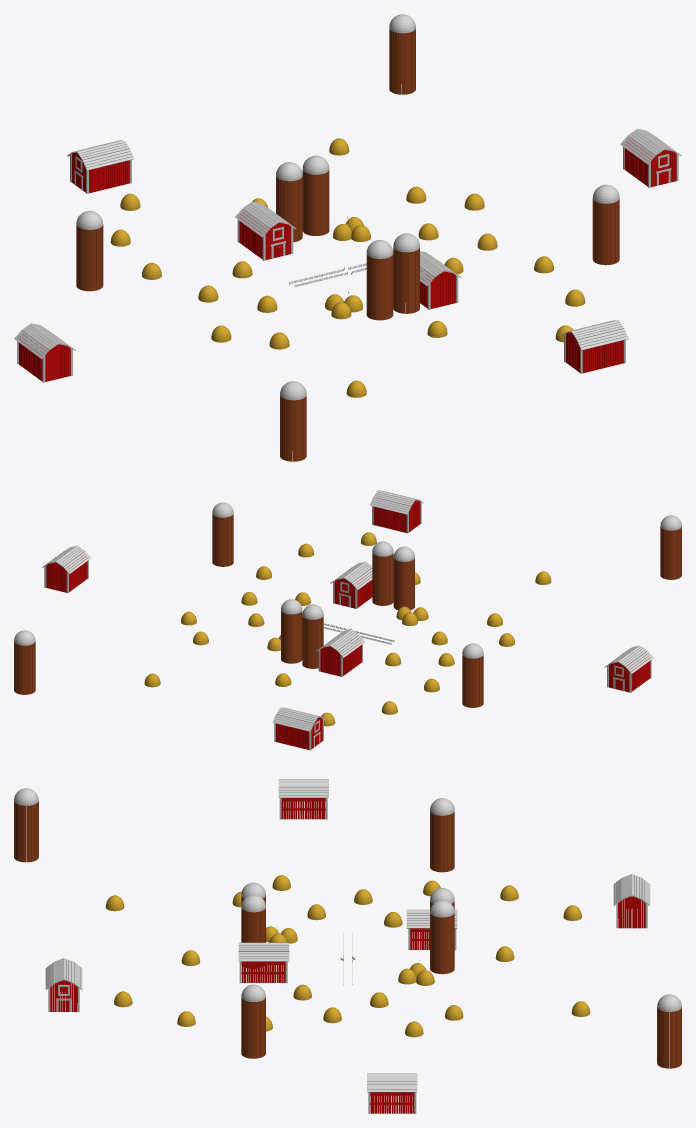
The model's file is Map_01_Building Placements.fbx.
3 renders of one model, top to bottom at view 1: azimuth 30°, elevation 25°; view 2: azimuth 150°, elevation 25°; view 3: azimuth 270°, elevation 25°, orthographic. The views are drawn at different scales.
Visible parts, largest first — view 1: Cube.151, Cube.154, Cube.183, Cube.152, Cube.153, Cube, Cylinder.007, Cylinder.004, Cylinder.001, Cylinder.009, Cylinder.006, Cylinder.005 (+2 smaller); view 2: Cube.151, Cube.154, Cube.183, Cube.153, Cube.152, Cube, Cylinder.006, Cylinder, Cylinder.007, Cylinder.005, Cylinder.004, Cylinder.009 (+2 smaller); view 3: Cube, Cube.153, Cube.152, Cube.154, Cube.151, Cylinder.005, Cylinder.007, Cylinder.006, Cylinder.009, Cylinder.004, Cube.183, Cylinder.
Boxes of the visible parts, x1,y1,x2,y2 form: Cube.151: (561,320,628,373); Cube.154: (67,140,134,193); Cube.183: (235,201,296,260); Cube.152: (14,323,75,382); Cube.153: (620,128,681,187); Cube: (420,251,460,309); Cylinder.007: (76,224,103,291); Cylinder.004: (592,198,619,265); Cylinder.001: (366,254,393,320); Cylinder.009: (302,170,329,235); Cylinder.006: (389,29,415,94); Cylinder.005: (280,396,306,461); Cube.151: (369,490,423,533); Cube.154: (272,707,326,750); Cube.183: (316,629,365,676); Cube.153: (42,545,91,593); Cube.152: (604,645,653,692); Cube: (330,561,372,608); Cylinder.006: (14,641,35,694); Cylinder: (372,553,393,605); Cylinder.007: (462,655,483,707); Cylinder.005: (660,527,681,579); Cylinder.004: (212,514,233,566); Cylinder.009: (281,611,302,663); Cube: (238,942,289,983); Cube.153: (367,1073,417,1113); Cube.152: (278,779,328,819); Cube.154: (613,874,650,928); Cube.151: (45,958,82,1011); Cylinder.005: (14,801,38,862); Cylinder.007: (430,811,454,872); Cylinder.006: (657,1007,681,1068); Cylinder.009: (430,913,454,974); Cylinder.004: (241,998,265,1058); Cube.183: (406,909,457,950); Cylinder: (241,908,265,968).
Bounding box in the file's own units: 29353 × 2998 × 26739.
